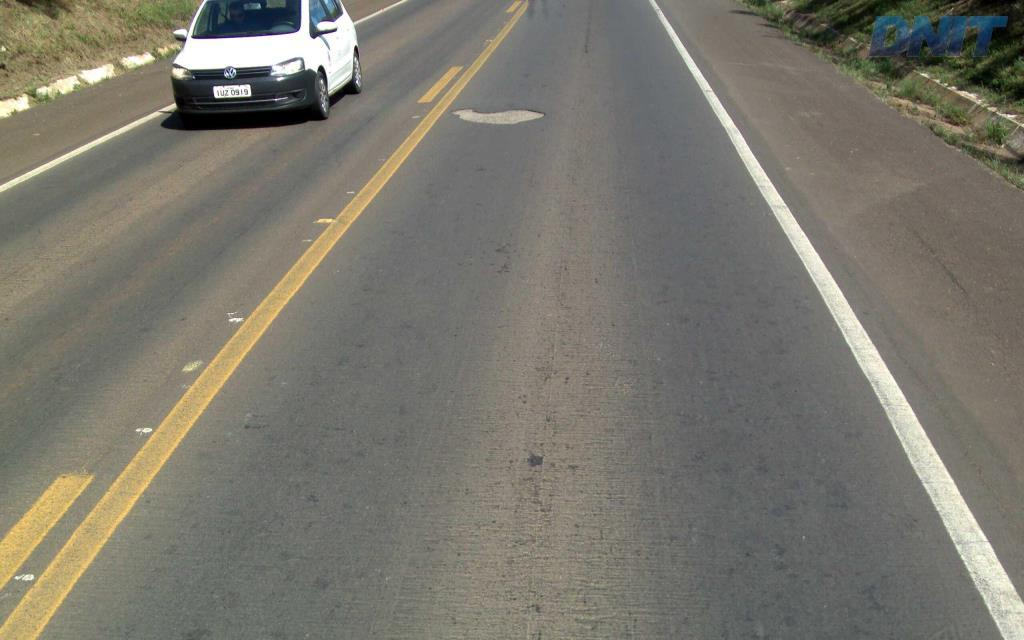pothole: (449, 101, 548, 129)
